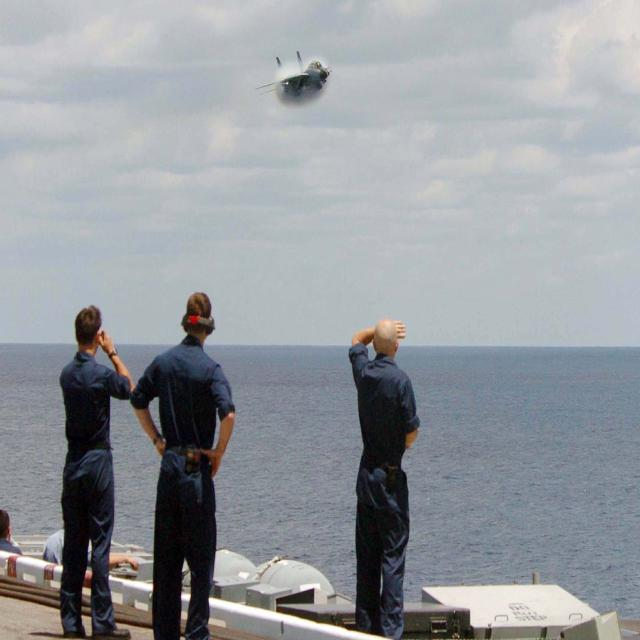MIL_Plane: (256, 50, 332, 96)
